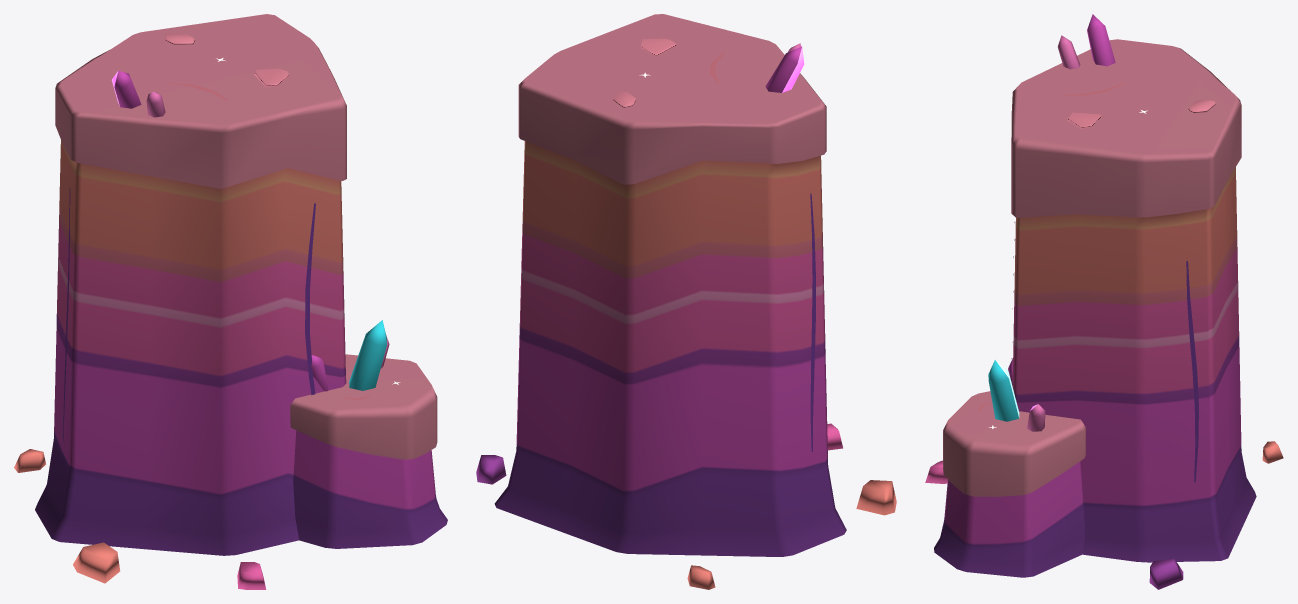
Rendered from mesa_rock_b.glb.
The picture shows the model from 3 angles, left to right: view 1: azimuth 30°, elevation 25°; view 2: azimuth 150°, elevation 25°; view 3: azimuth 270°, elevation 25°; orthographic projection. The views are drawn at different scales.
Visible parts, largest first — view 1: MesaB.001; view 2: MesaB.001; view 3: MesaB.001.
Boxes of the visible parts, left/top/right/bottom form: MesaB.001: left=14, top=14, right=447, bottom=589; MesaB.001: left=476, top=14, right=896, bottom=589; MesaB.001: left=925, top=14, right=1283, bottom=589.
Bounding box in the file's own units: 2.16 × 2.73 × 2.
